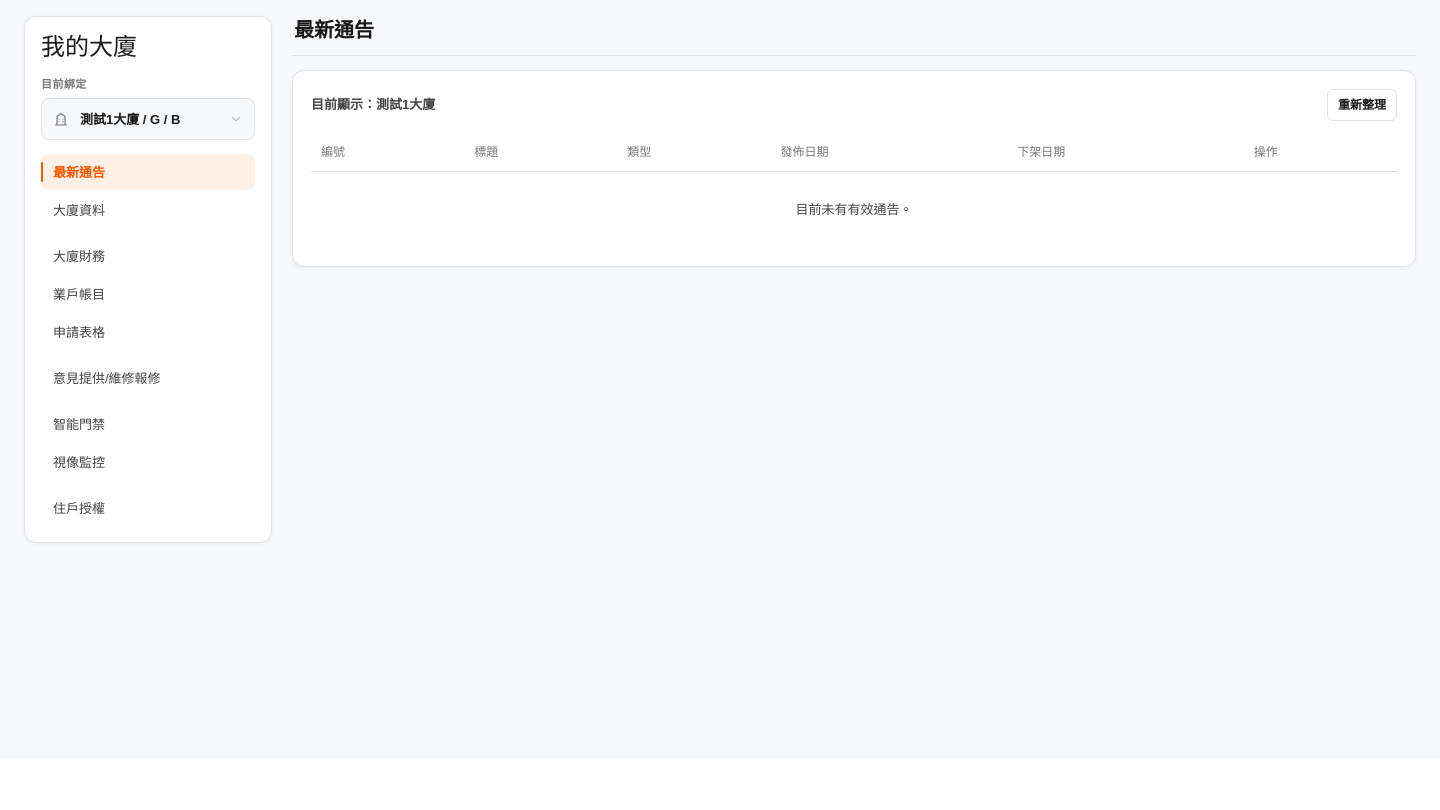
Test case: BuildingPage binding refresh › switches one complete authorized unit and reloads notices and building data together
Select "時安大廈 / 01 / B" in the dropdown with class "building-context-select": (148, 119) [41,98,255,140]
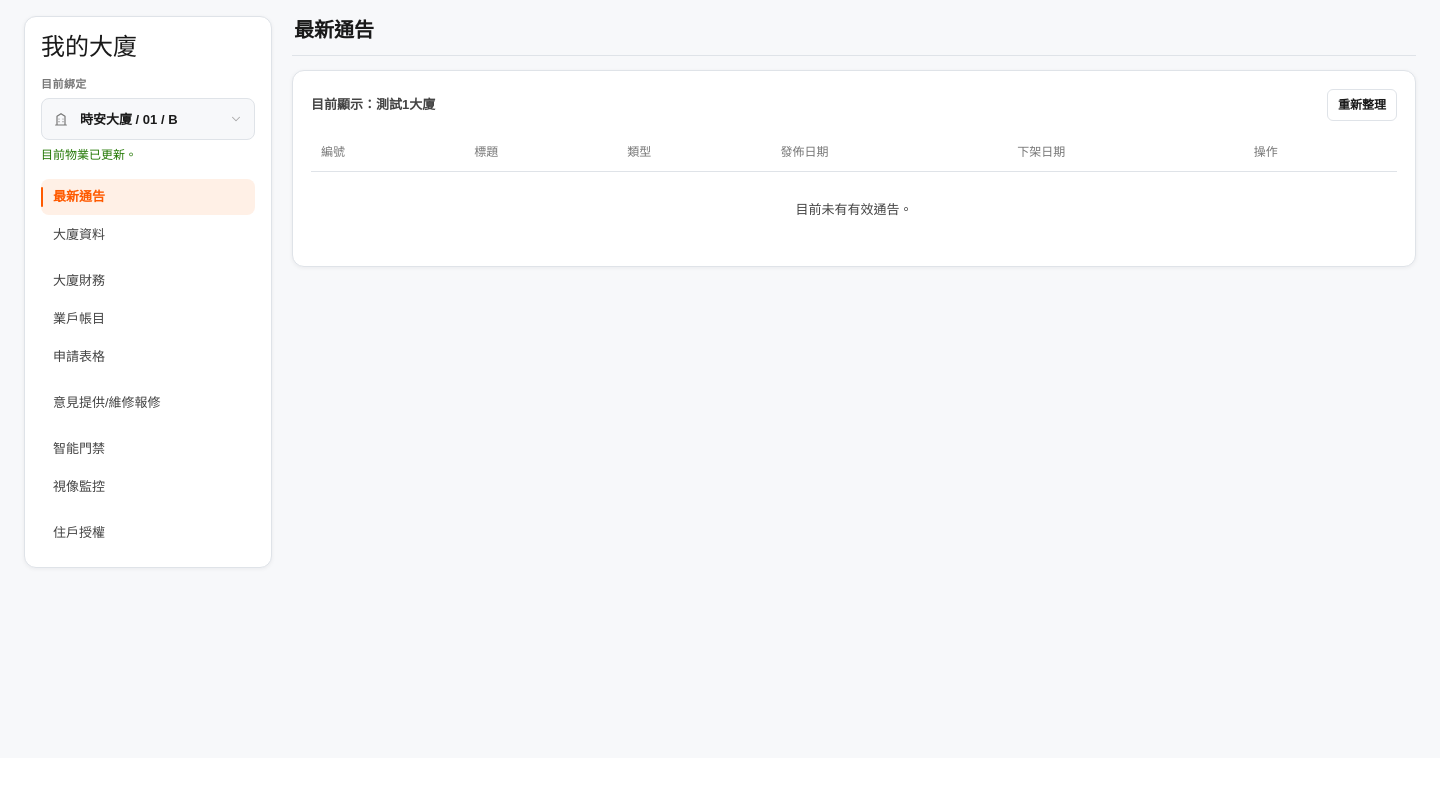
Expected: the text "目前物業已更新" is shown, [41,148,137,162]
